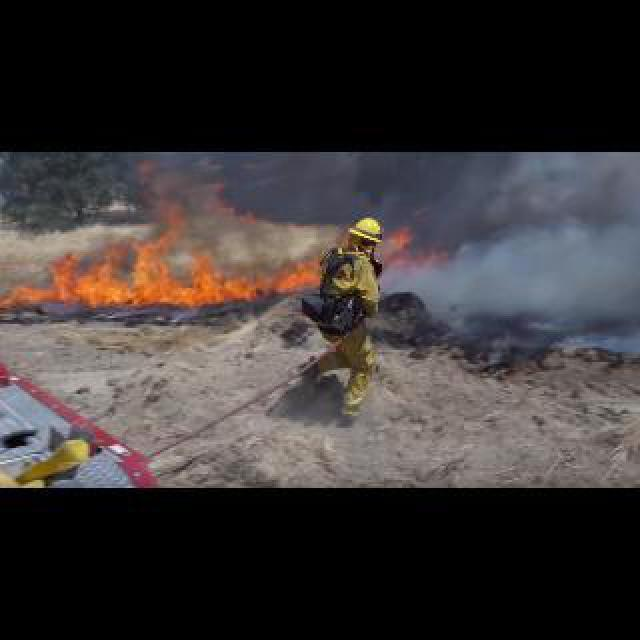Fire: (4, 202, 324, 322), (390, 222, 446, 262)
Smoke: (212, 184, 254, 222)
